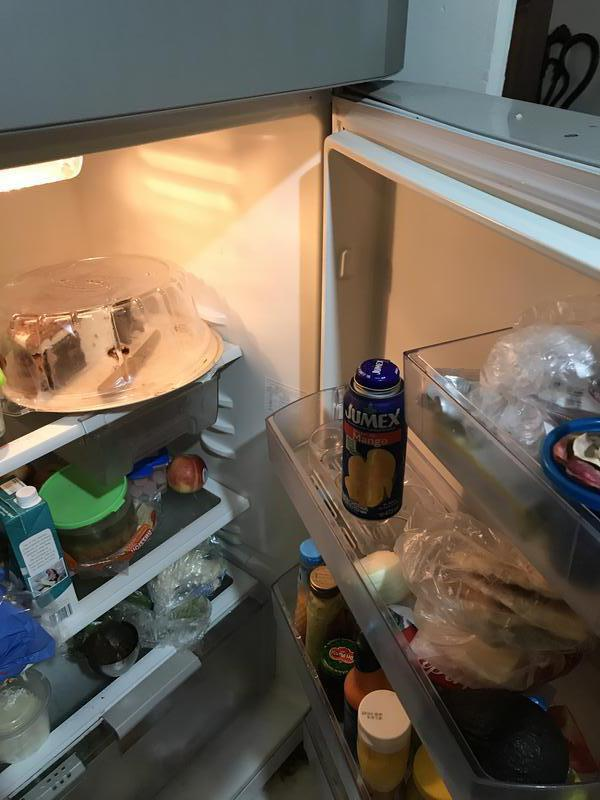jugo_jumex: (340, 357, 405, 522)
